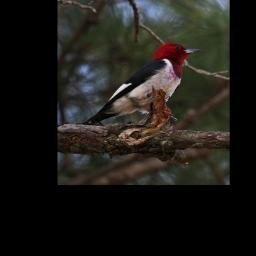Woodpecker: (75, 41, 205, 126)
